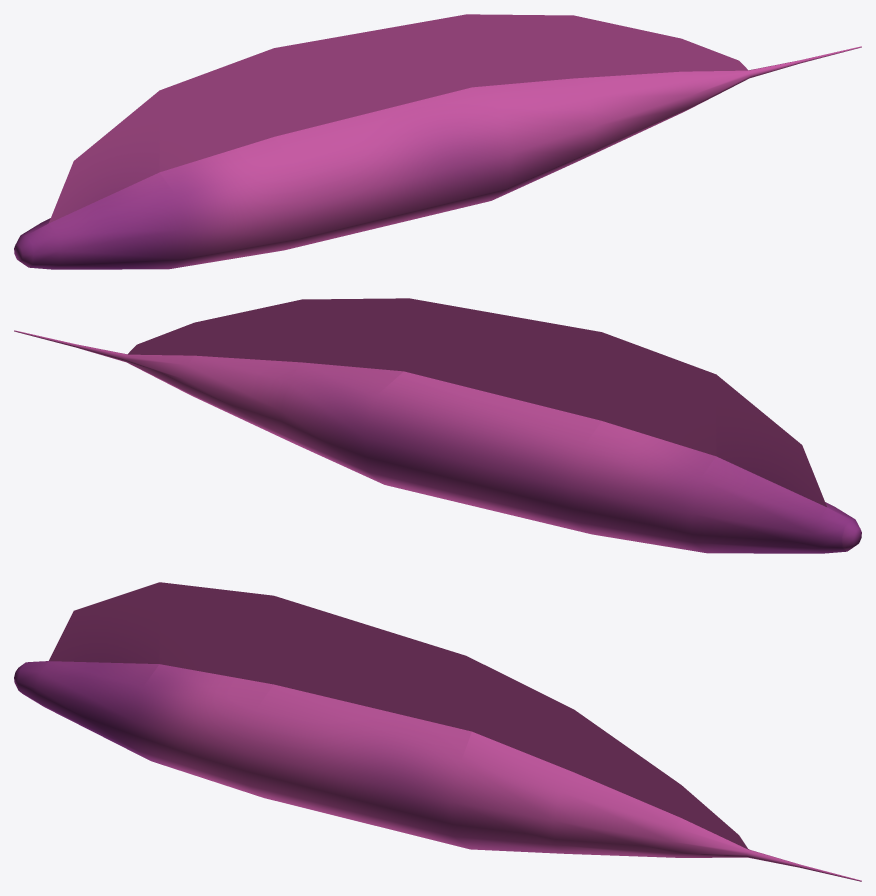
File: Transporona.fbx
3 views of the same model, one above another, from view 1: azimuth 30°, elevation 25°; view 2: azimuth 150°, elevation 25°; view 3: azimuth 330°, elevation 25° (orthographic).
Parts seen in each view (by area): view 1: pCylinder1; view 2: pCylinder1; view 3: pCylinder1.
Part boxes in pixels (left/top/right/bottom): pCylinder1: left=14, top=14, right=861, bottom=269; pCylinder1: left=14, top=298, right=861, bottom=553; pCylinder1: left=14, top=582, right=861, bottom=881.
Bounding box in the file's own units: 1250 × 277 × 155.
Materials: 1 (1 with a texture image).
